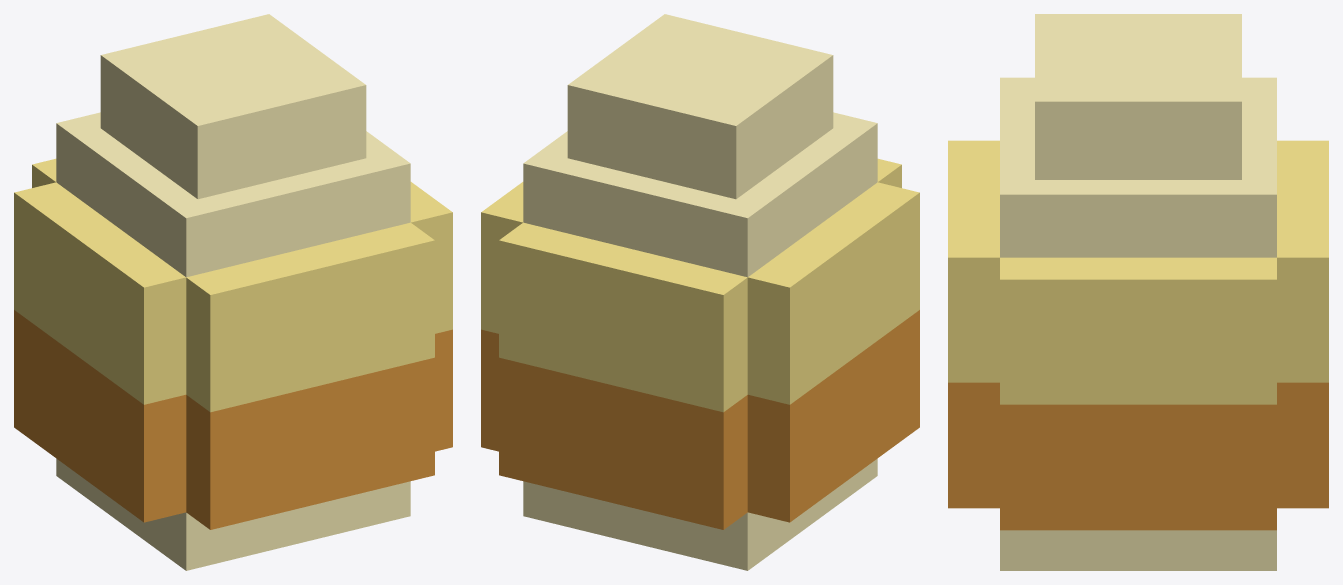
The model's file is egg_trex.obj.
3 renders of one model, left to right at view 1: azimuth 30°, elevation 25°; view 2: azimuth 150°, elevation 25°; view 3: azimuth 270°, elevation 25°, orthographic. The views are drawn at different scales.
Parts seen in each view (by area): view 1: egg_trex; view 2: egg_trex; view 3: egg_trex.
Part boxes in pixels (x1=…): egg_trex: x1=14, y1=14, x2=452, y2=570; egg_trex: x1=481, y1=14, x2=919, y2=570; egg_trex: x1=948, y1=14, x2=1328, y2=570.
Size of the model in its own units: 6.39 by 8.43 by 6.4.
